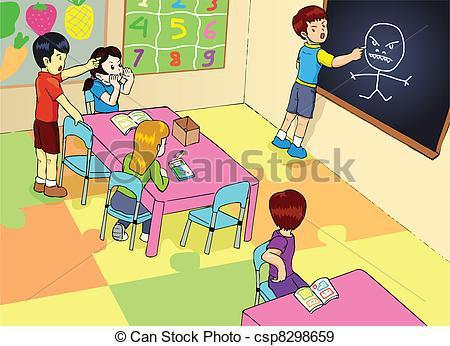chair: (180, 180, 252, 251), (59, 114, 111, 206), (98, 168, 153, 250), (252, 237, 279, 307)
diningtable: (70, 109, 253, 262)
person: (269, 4, 366, 159), (27, 30, 101, 200), (114, 118, 169, 244), (262, 187, 312, 300), (80, 44, 137, 112)
